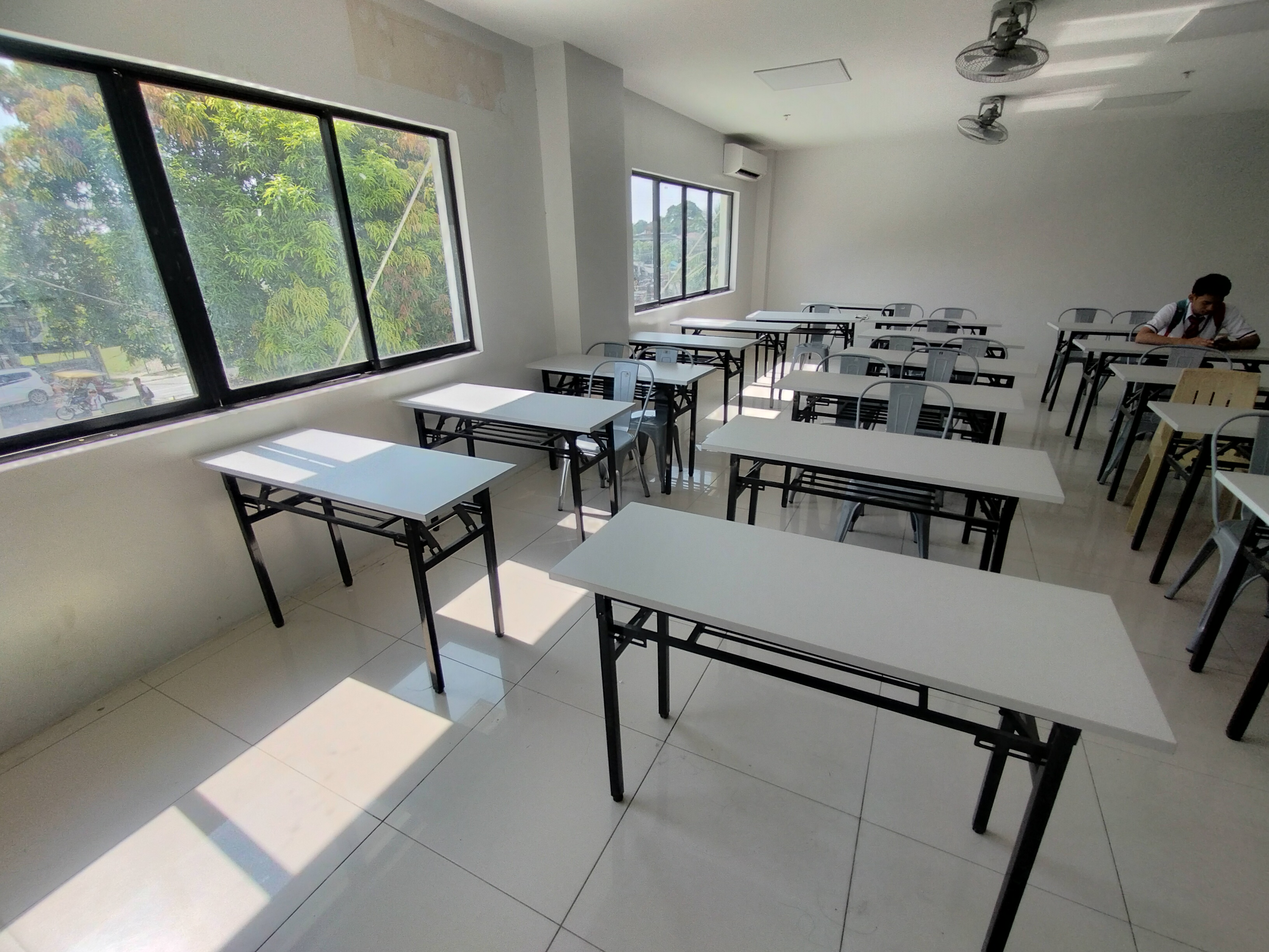with-student: (1073, 265, 1269, 458)
